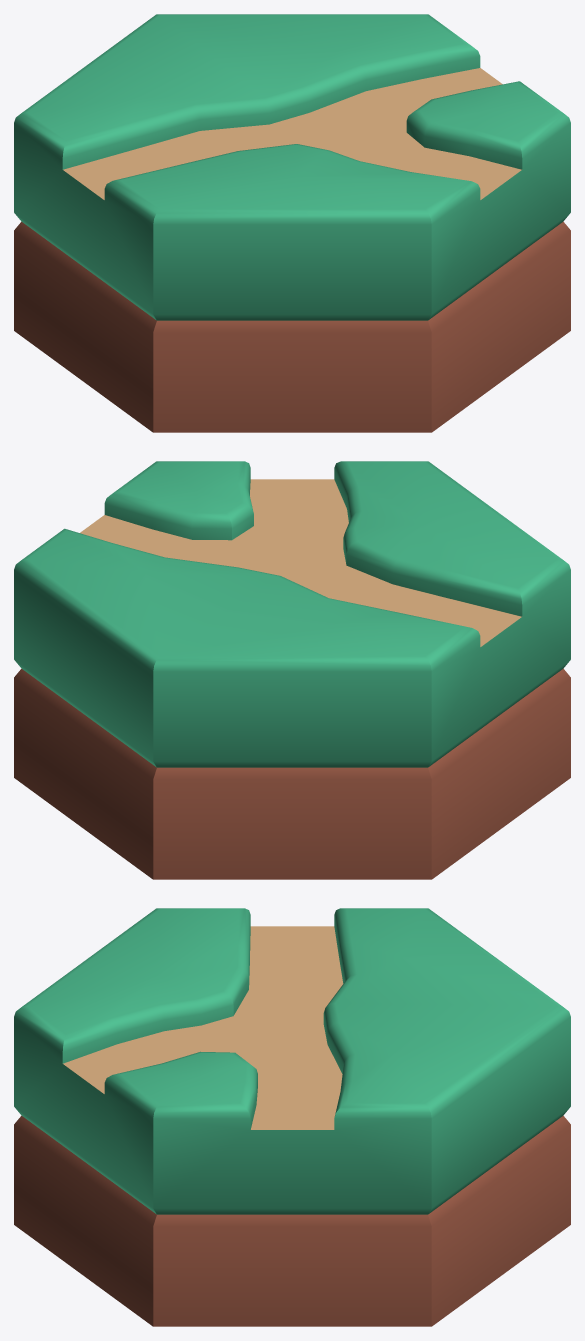
The model's file is kaykit-hex-forest-roade-detail.glb.
3 views of the same model, one above another, from view 1: azimuth 30°, elevation 25°; view 2: azimuth 150°, elevation 25°; view 3: azimuth 270°, elevation 25° (orthographic).
Visible parts, largest first — view 1: hex_forest_roadE_detail; view 2: hex_forest_roadE_detail; view 3: hex_forest_roadE_detail.
Part boxes in pixels (x1,y1,x2,y2): hex_forest_roadE_detail: (14, 14, 570, 432); hex_forest_roadE_detail: (14, 461, 570, 879); hex_forest_roadE_detail: (14, 908, 570, 1326).
Bounding box in the file's own units: 2 × 1 × 2.31.
